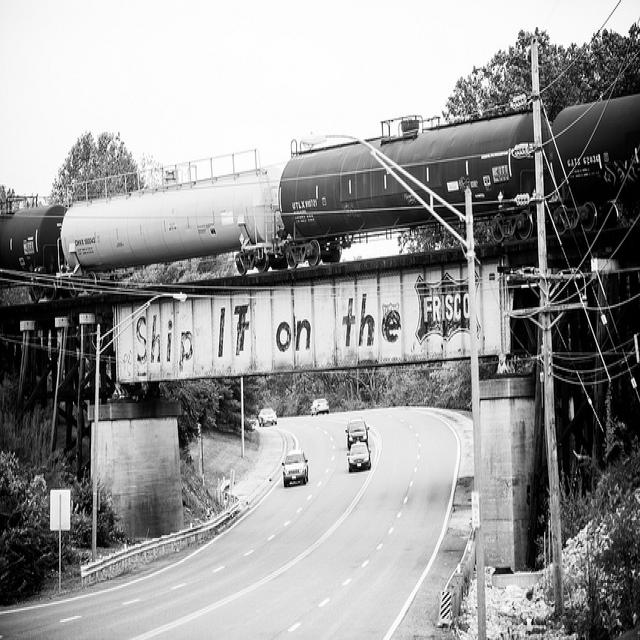Vehicle: (281, 450, 309, 487), (345, 416, 369, 449), (346, 442, 372, 472), (309, 398, 328, 417), (258, 408, 278, 426)
